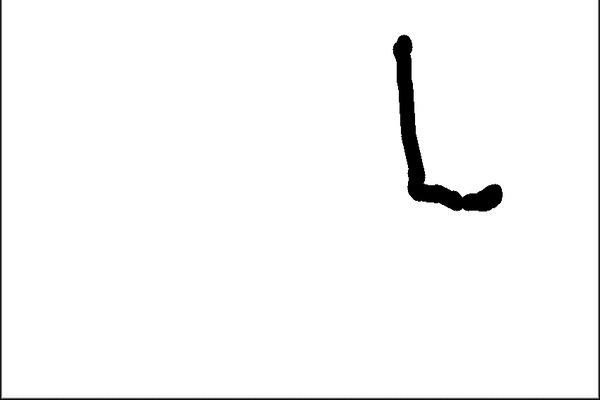L: (385, 27, 508, 216)
